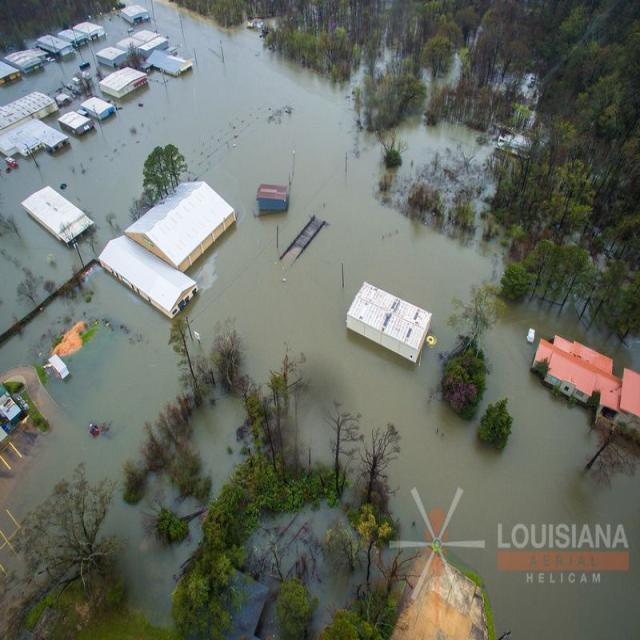flooded_areas: (0, 13, 633, 639)
